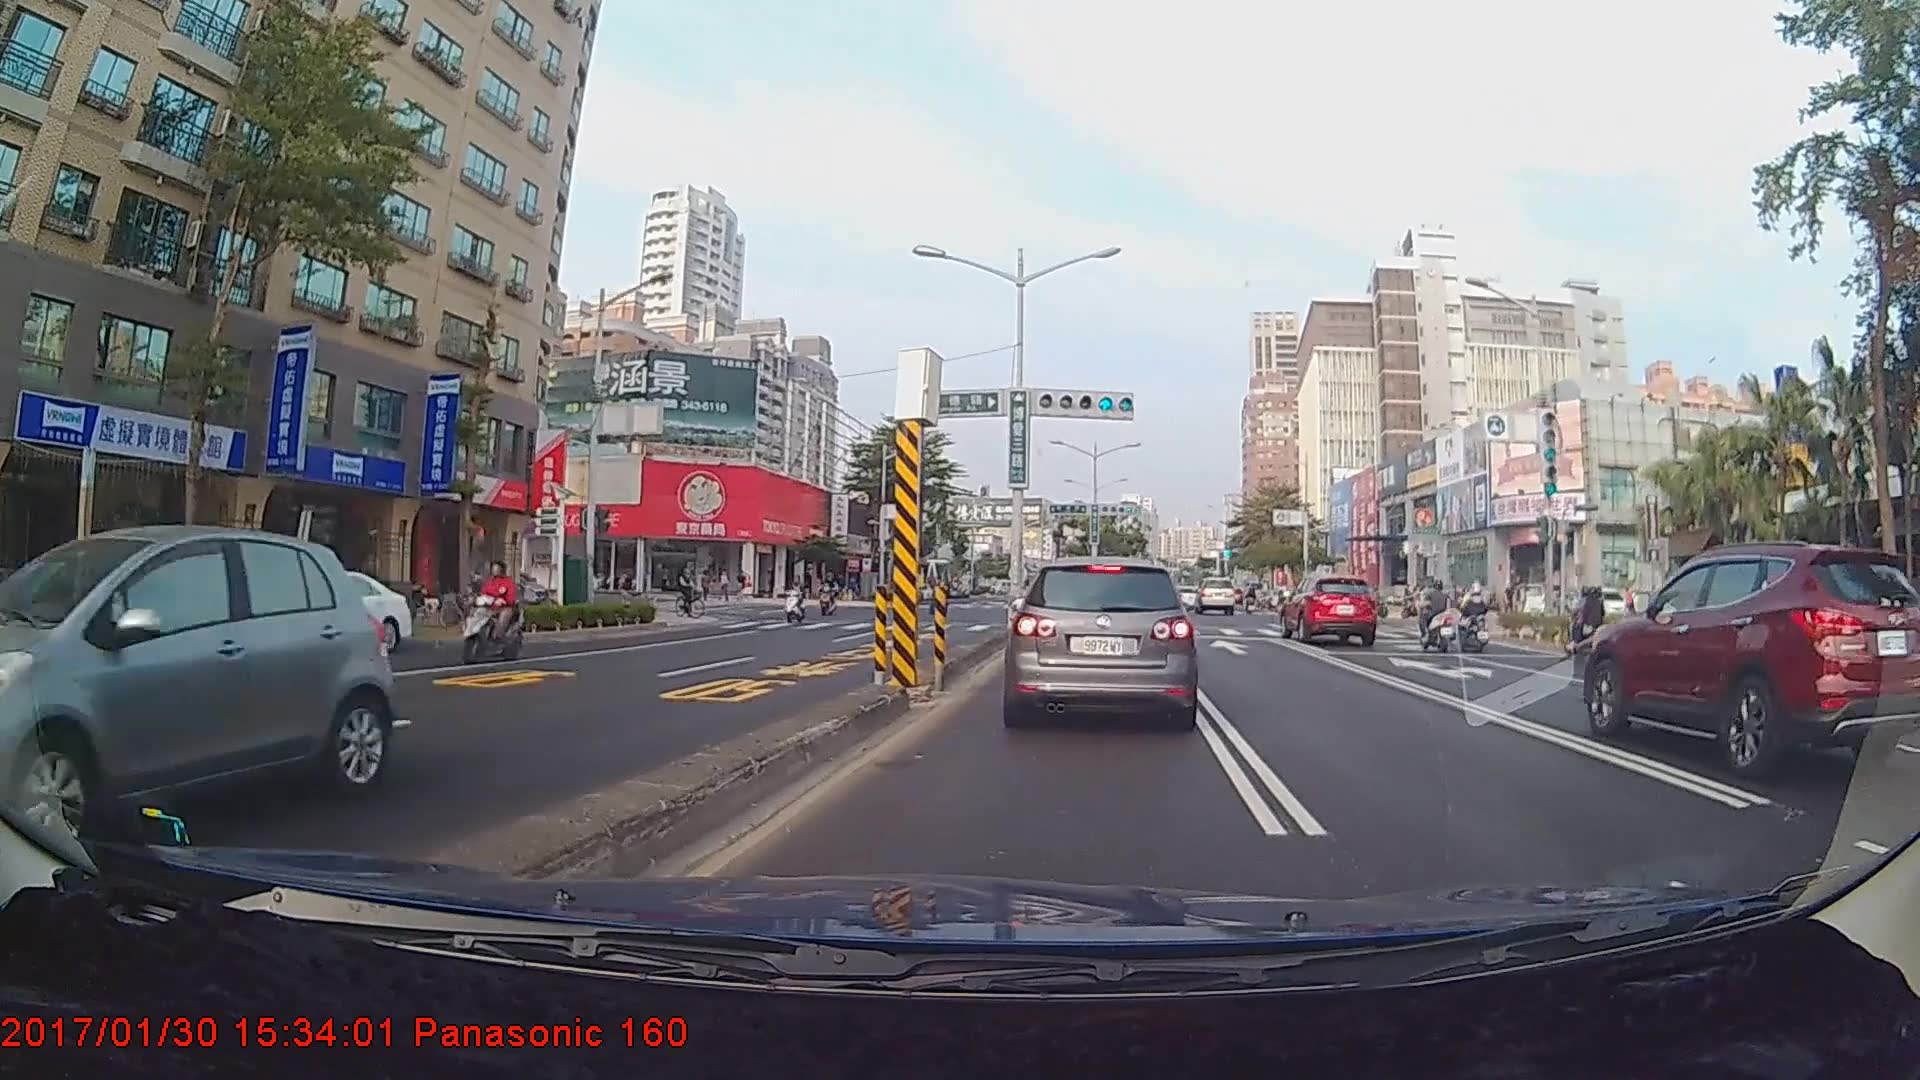rider: (457, 552, 531, 669), (1412, 583, 1466, 659), (1568, 589, 1616, 670), (1449, 584, 1499, 658), (666, 564, 706, 623), (780, 576, 815, 629)
vehicle: (0, 523, 392, 860), (1580, 541, 1916, 779), (1008, 555, 1196, 727), (1280, 569, 1382, 646), (1194, 577, 1236, 615)
